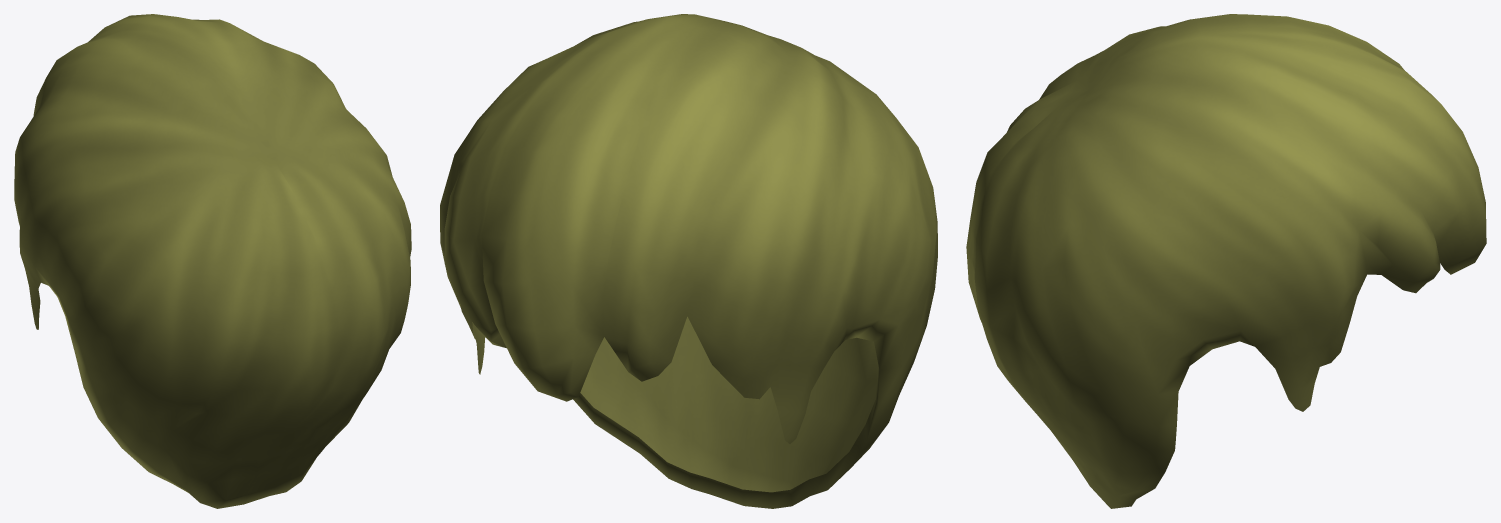
The model's file is Hair_Male_001_textured_yellow.glb.
3 views of the same model, side by side, from view 1: azimuth 30°, elevation 25°; view 2: azimuth 150°, elevation 25°; view 3: azimuth 270°, elevation 25° (orthographic). The views are drawn at different scales.
Parts seen in each view (by area): view 1: Hair_Male_001; view 2: Hair_Male_001; view 3: Hair_Male_001.
Boxes of the visible parts, left/top/right/bottom form: Hair_Male_001: left=14, top=14, right=411, bottom=508; Hair_Male_001: left=440, top=14, right=937, bottom=508; Hair_Male_001: left=966, top=14, right=1486, bottom=508.
Size of the model in its own units: 0.189 by 0.2389 by 0.2448.
Materials: 1 (1 with a texture image).
